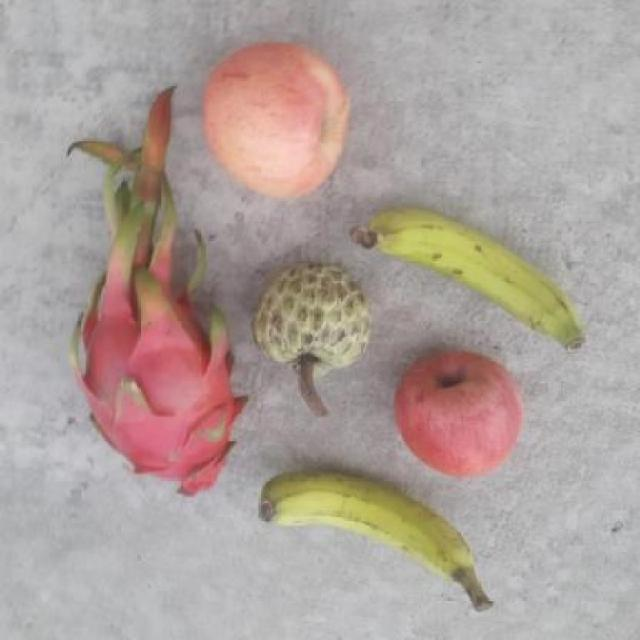apple: (198, 36, 354, 201), (393, 347, 524, 479)
banana: (258, 470, 494, 610), (364, 210, 588, 352)
dragon fruit: (70, 285, 241, 497)
sugar apple: (249, 256, 374, 387)
